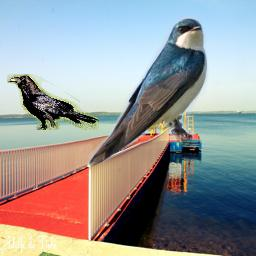Crow: (7, 74, 99, 130)
Swallow: (83, 12, 213, 169)
